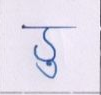u_matra: (35, 60, 61, 78)
